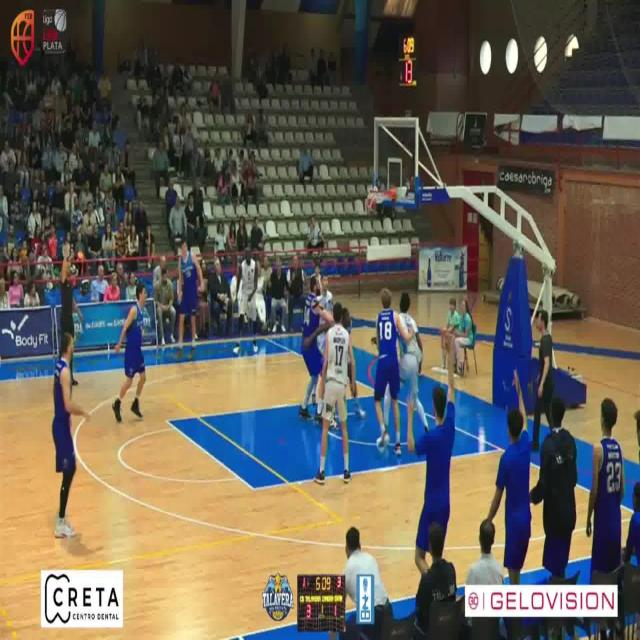ball: (365, 186, 380, 213)
basket: (366, 185, 397, 210)
bench person: (408, 335, 456, 575), (488, 369, 532, 585), (531, 396, 578, 579), (587, 398, 625, 576)
player: (51, 331, 89, 538), (315, 302, 357, 484), (375, 287, 410, 456), (111, 281, 146, 422), (299, 274, 331, 419), (399, 291, 429, 431), (178, 237, 204, 346), (238, 245, 258, 352), (321, 273, 334, 311), (342, 306, 353, 333)
referee: (532, 309, 556, 451), (59, 237, 80, 336)
